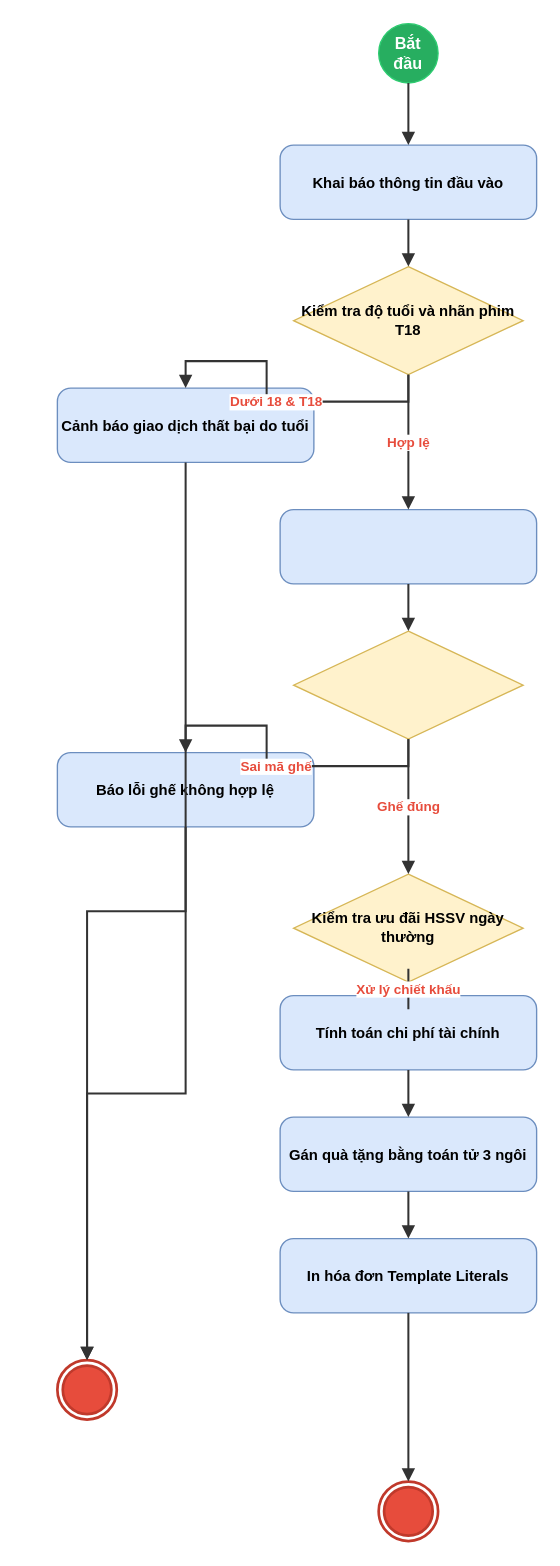
The diagram is 560 pixels wide and 1566 high, and some of its shapes have lost their labels. Each missing label, with the centre of its shape:
Ghế có hợp lệ không?: pixel 407 684
Kết thúc thành công: pixel 408 1511
Kết thúc thất bại: pixel 86 1389
Xác định phụ thu loại ghế: pixel 408 546
